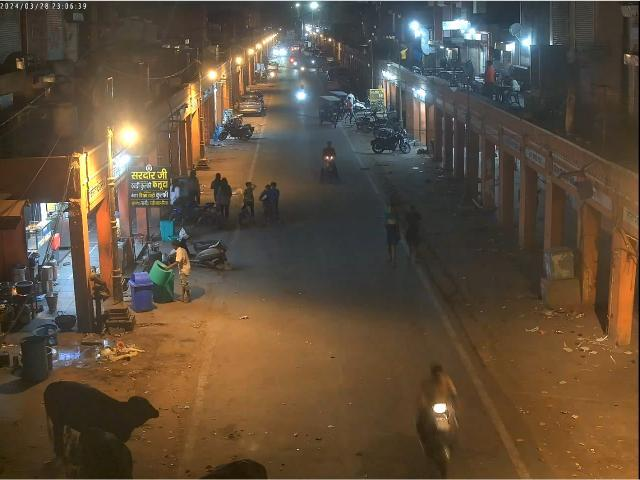bicycle-rider: (258, 184, 280, 222), (238, 182, 256, 226)
cattle: (42, 378, 162, 456)
motorbike: (169, 196, 220, 231), (219, 123, 250, 141)
no_helmet: (428, 362, 447, 378)
person: (168, 241, 192, 302), (384, 204, 400, 270), (404, 206, 422, 264), (212, 172, 230, 216), (184, 170, 201, 202)
scooty: (170, 228, 227, 269)
scooty-rider: (414, 362, 462, 477), (320, 141, 340, 181)
